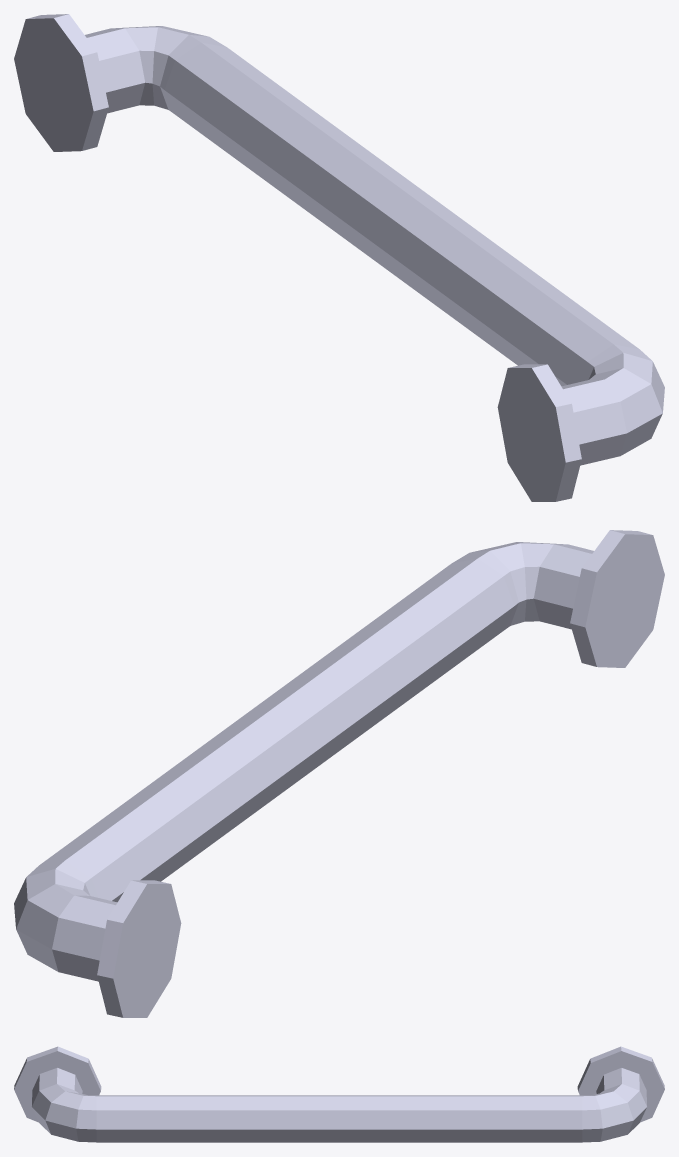
The model's file is towelholder.fbx.
The picture shows the model from 3 angles, top to bottom: view 1: azimuth 30°, elevation 25°; view 2: azimuth 150°, elevation 25°; view 3: azimuth 270°, elevation 25°; orthographic projection. The views are drawn at different scales.
Parts seen in each view (by area): view 1: Cylinder.020; view 2: Cylinder.020; view 3: Cylinder.020.
Part boxes in pixels (bbox=[...]): Cylinder.020: bbox=[14, 14, 664, 501]; Cylinder.020: bbox=[14, 530, 664, 1017]; Cylinder.020: bbox=[14, 1046, 664, 1142].
Bounding box in the file's own units: 30.82 × 25.53 × 191.
